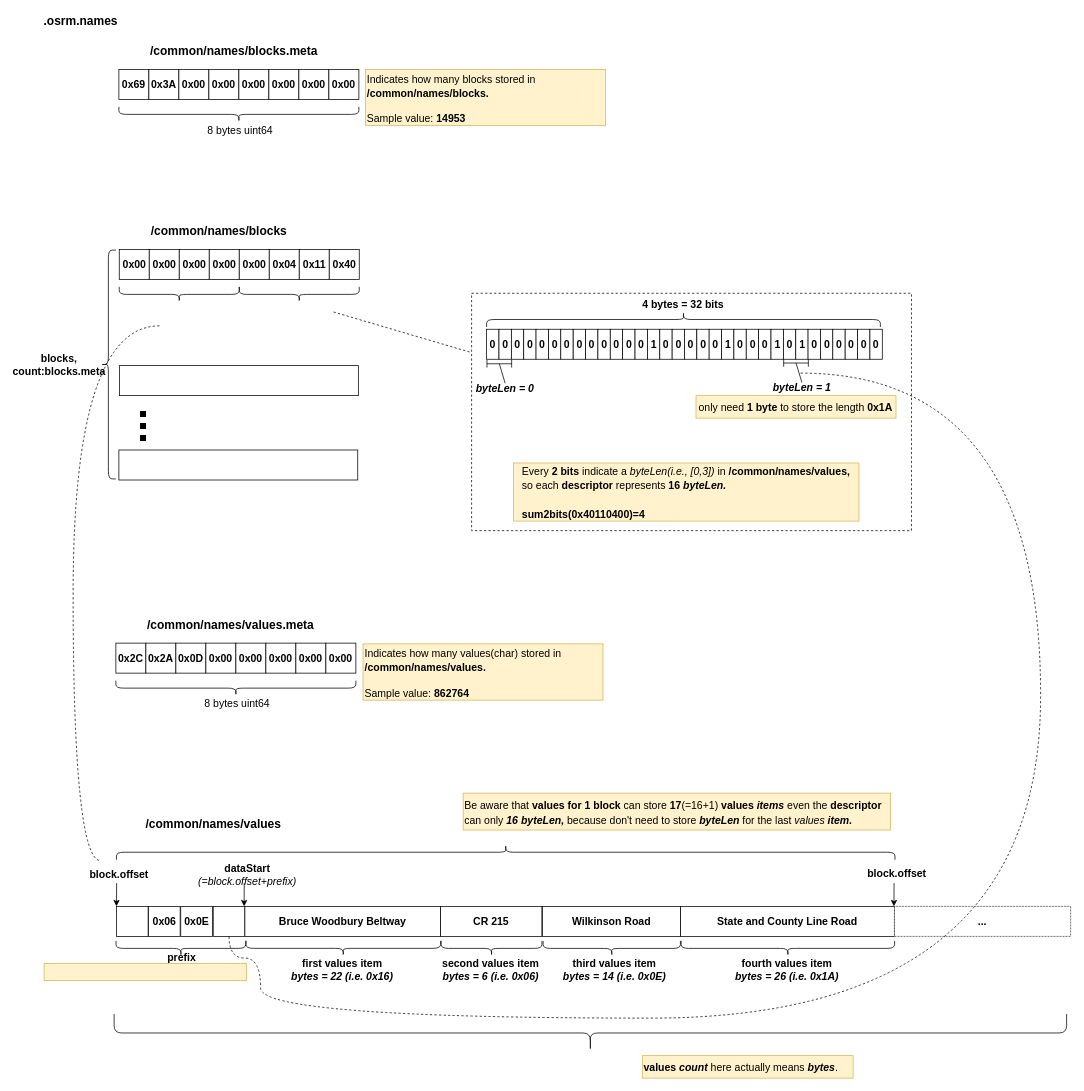
The diagram is 1084 pixels wide and 1091 high, and some of its shapes have lost their labels. The shapes that lost their labels are listed below. From the top down, each one's centre as x and y in pixels, then its label:
point 178,294: 4 bytes uint32 offset
point 298,294: 4 bytes uint32 descriptor
point 505,852: values for 1 block
point 132,921: 0x16
point 228,921: 0x1A
point 144,972: prefix bytes = sum2bits(block.descriptor)
point 590,1032: values, count:values.meta
